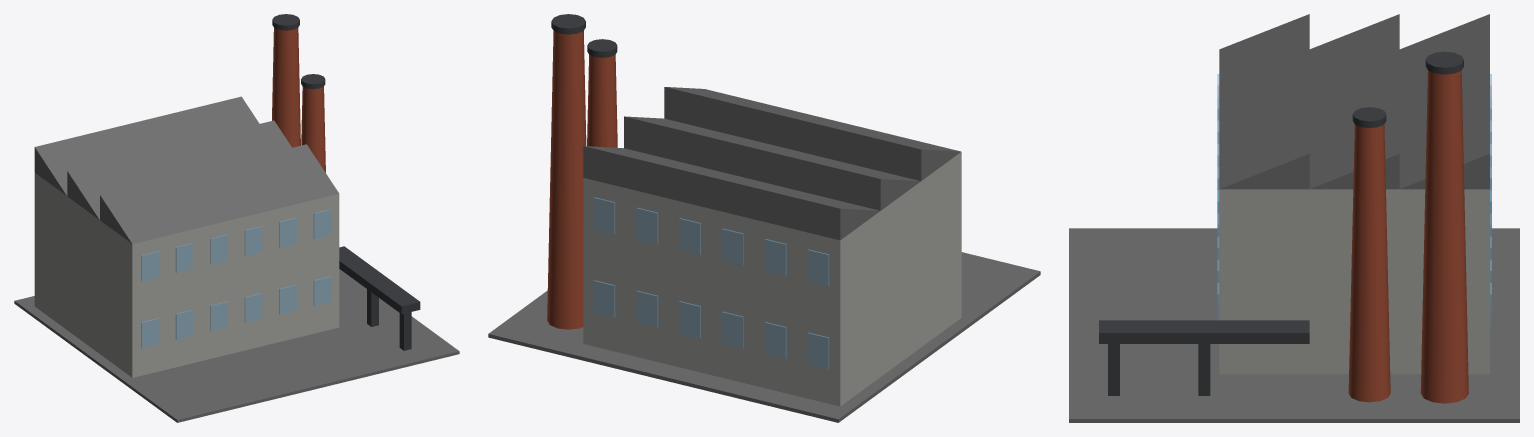
The model's file is bld_special_factory_a06.glb.
The picture shows the model from 3 angles, left to right: view 1: azimuth 30°, elevation 25°; view 2: azimuth 150°, elevation 25°; view 3: azimuth 270°, elevation 25°; orthographic projection. The views are drawn at different scales.
Visible parts, largest first — view 1: body; view 2: body; view 3: body.
Part boxes in pixels (<box>): body: <box>14,14,459,422</box>; body: <box>488,14,1040,422</box>; body: <box>1069,14,1519,422</box>.
Size of what is drawn, in the model's own units: 15 by 12.4 by 15.
